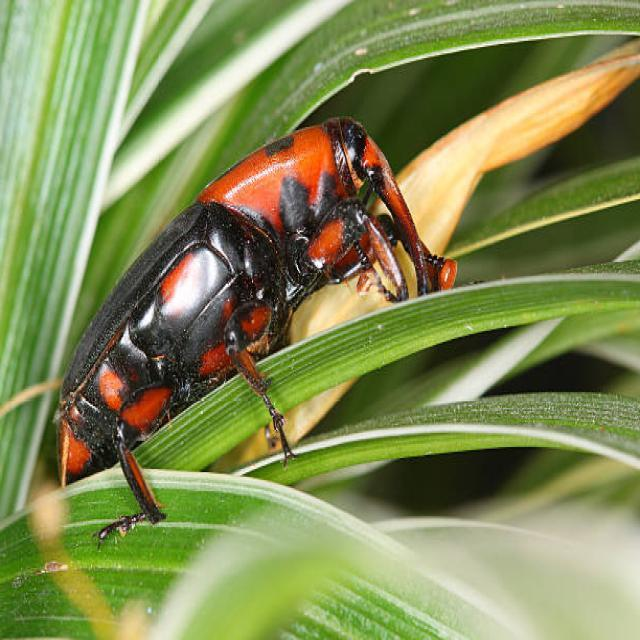Red-palm-weevil: (32, 95, 450, 537)
